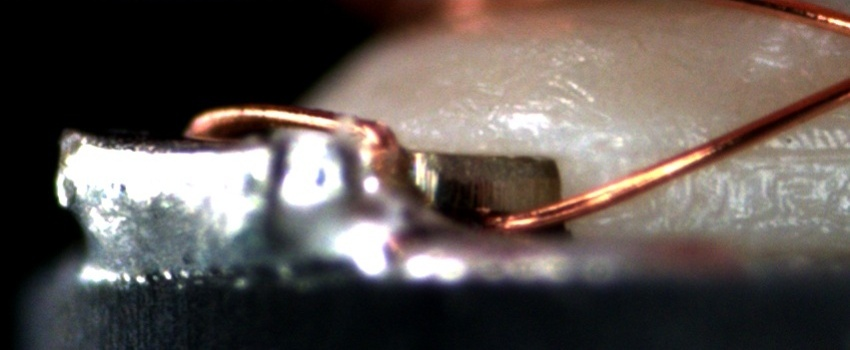DL: (622, 122, 849, 186)
TE: (172, 94, 407, 143)
